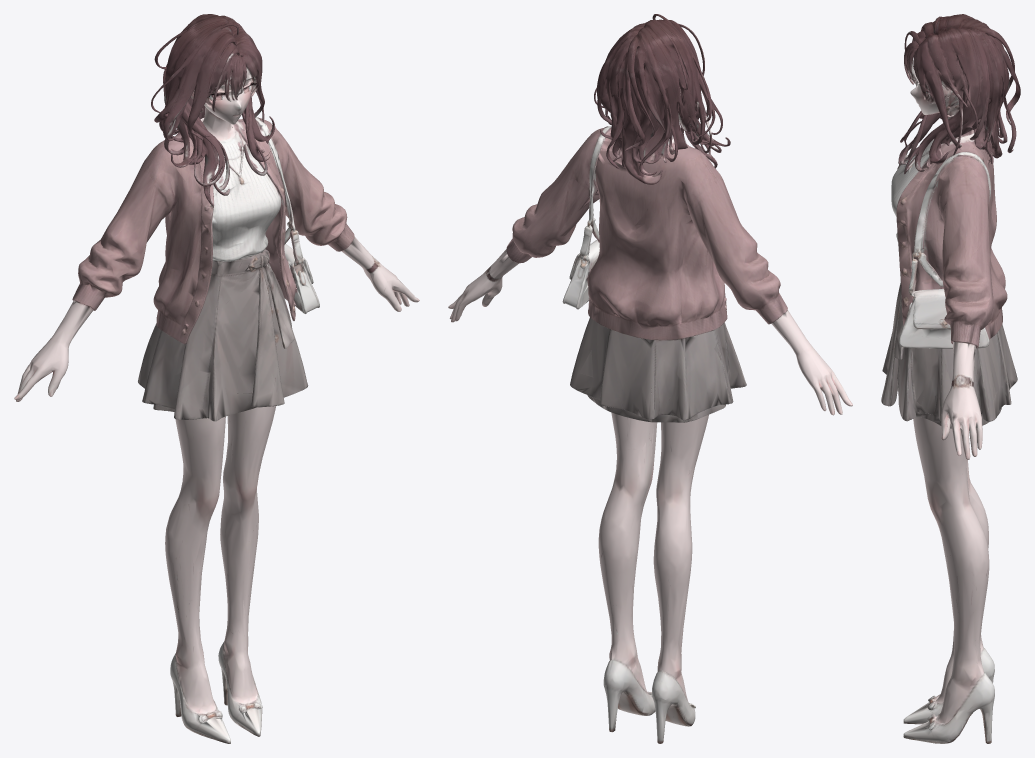
The model's file is xu_zhaoning.glb.
3 views of the same model, side by side, from view 1: azimuth 30°, elevation 25°; view 2: azimuth 150°, elevation 25°; view 3: azimuth 270°, elevation 25° (orthographic).
Visible parts, largest first — view 1: Mesh_0; view 2: Mesh_0; view 3: Mesh_0.
Part boxes in pixels (x1,y1,x2,y2): Mesh_0: (14, 14, 419, 743); Mesh_0: (448, 14, 852, 743); Mesh_0: (881, 14, 1020, 743).
Size of the model in its own units: 0.9919 by 1.65 by 0.2928.
Materials: 1 (1 with a texture image).
